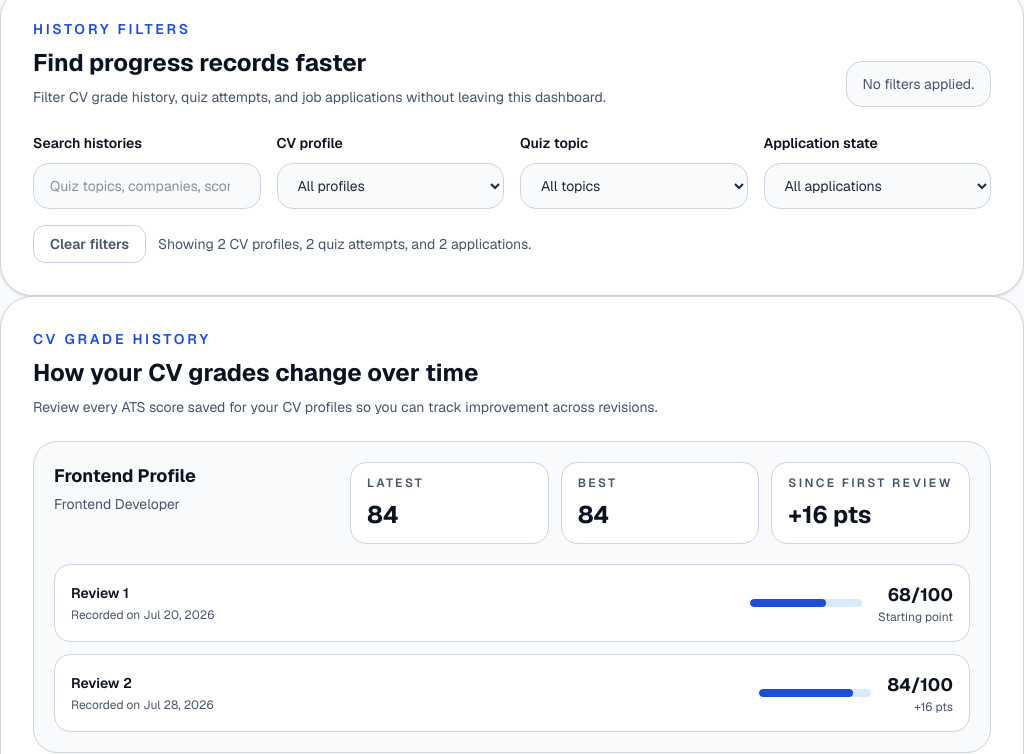
Test: ProgressHistoryClient › filters CV history and applications by selected profile
Step 1. Select "Backend Profile" in the dropdown named "CV profile filter" → (390, 186), box [276,163,504,209]
(page scrolled)
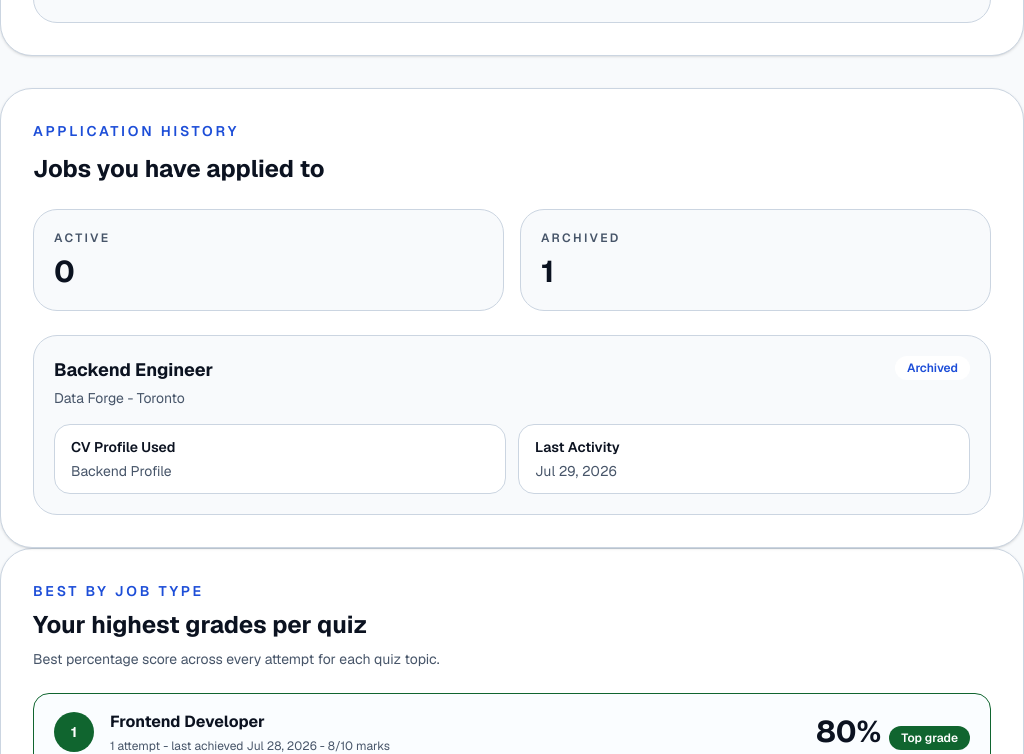
Expected: the text "Application History" is shown, [33,122,239,140]
Expected: the heading "Frontend Profile" is gone
